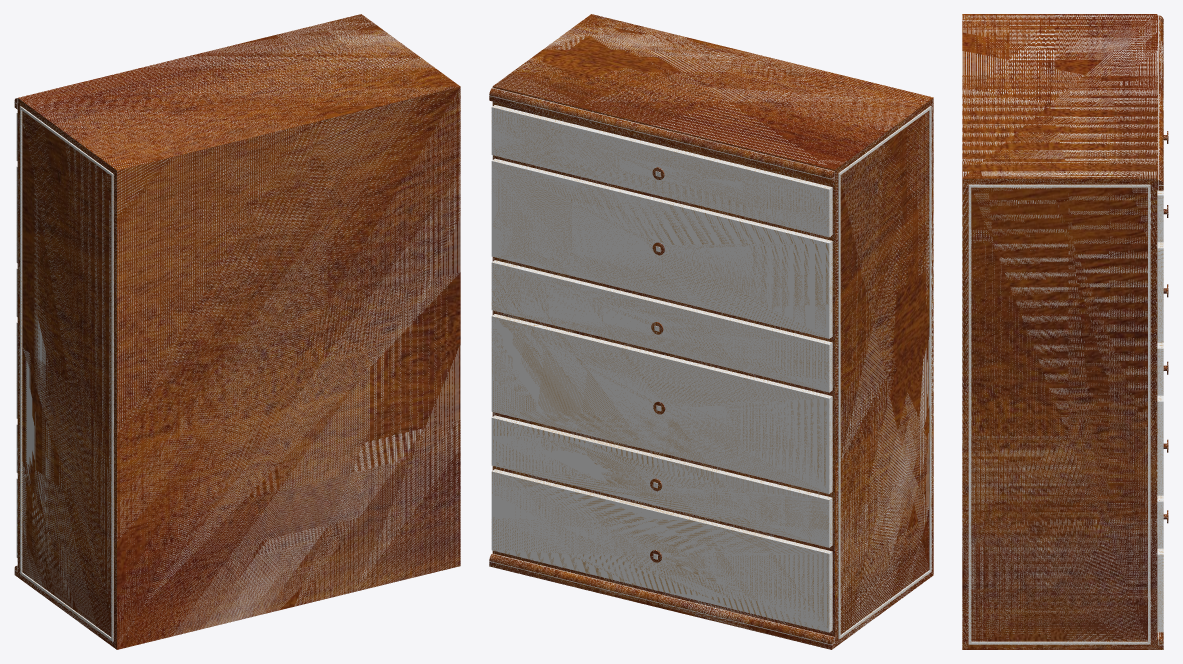
The picture shows the model from 3 angles, left to right: view 1: azimuth 30°, elevation 25°; view 2: azimuth 150°, elevation 25°; view 3: azimuth 270°, elevation 25°; orthographic projection.
Visible parts, largest first — view 1: mesh1_mesh1-geometry; view 2: mesh1_mesh1-geometry; view 3: mesh1_mesh1-geometry.
Part boxes in pixels (left/top/right/bottom): mesh1_mesh1-geometry: left=14, top=14, right=460, bottom=649; mesh1_mesh1-geometry: left=489, top=14, right=933, bottom=649; mesh1_mesh1-geometry: left=962, top=14, right=1168, bottom=649.
Bounding box in the file's own units: 0.5745 × 0.7607 × 0.3022.
